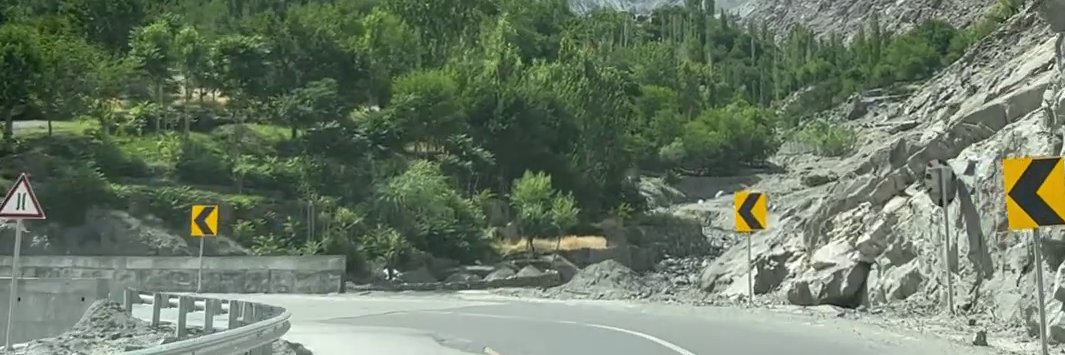right: (156, 205, 849, 355)
